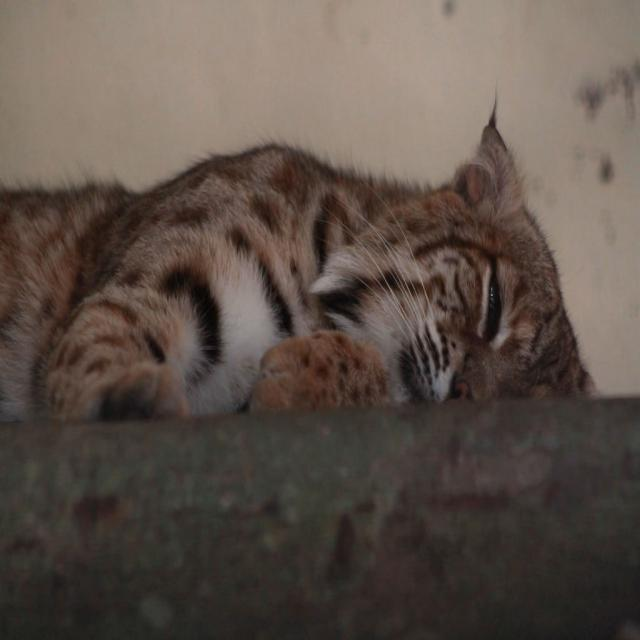Tiger: (0, 78, 598, 419)
